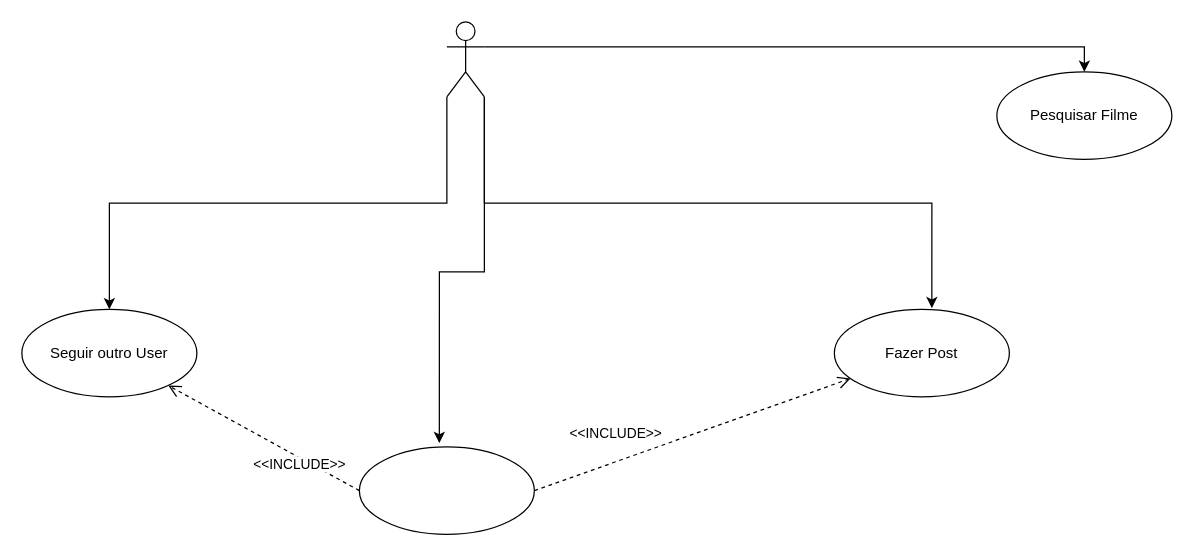
This 1194x556 diagram has some shape labels left out. Here are the shapes that lost their labels. From the top down, the box of each, then its label:
(446, 21, 484, 97): User
(358, 446, 534, 534): Cadastrar User
